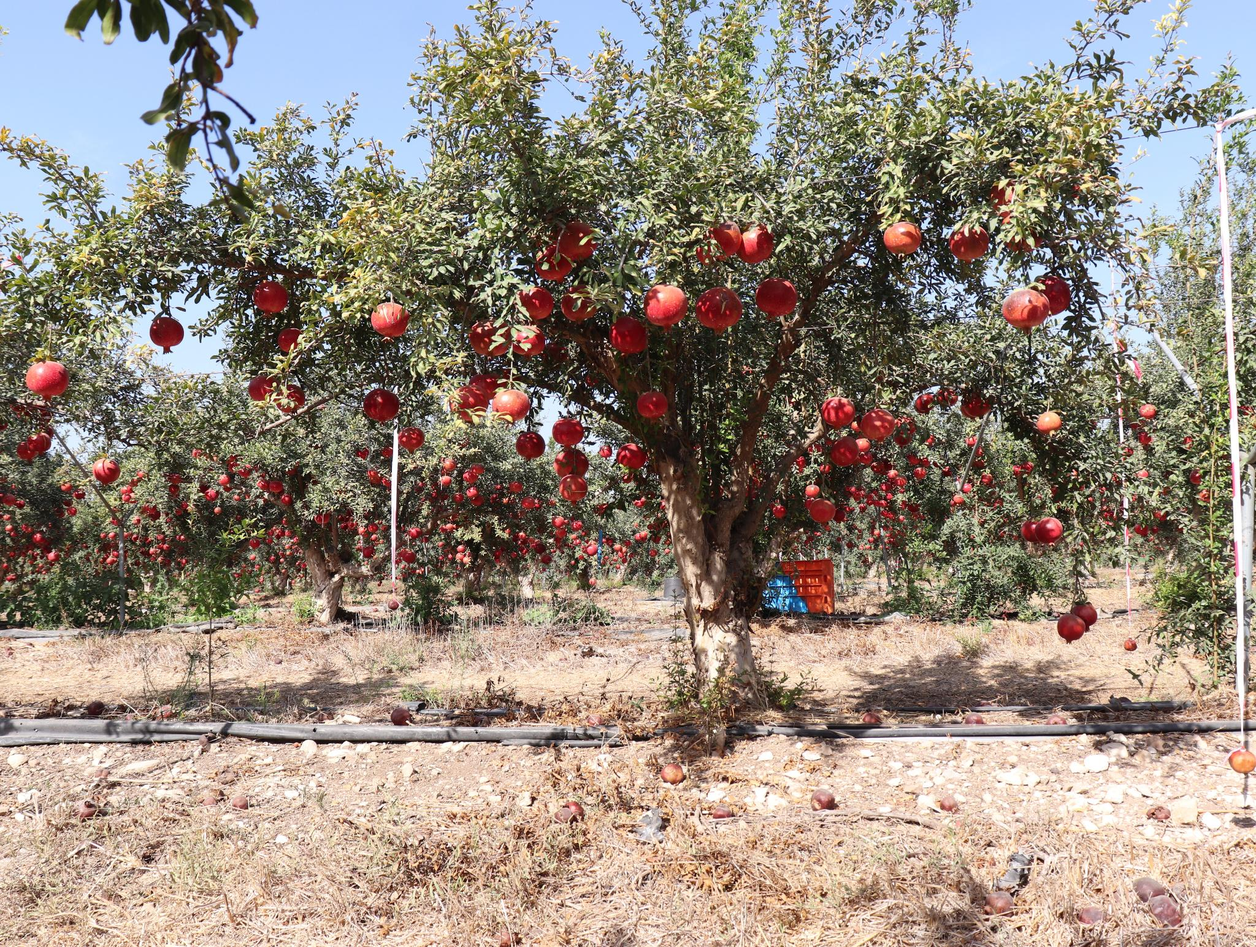pomegranates: (643, 284, 688, 334), (1004, 290, 1050, 336), (24, 361, 70, 404), (756, 277, 797, 323), (469, 319, 511, 362), (1000, 213, 1044, 253), (949, 225, 989, 268), (736, 220, 774, 265), (534, 244, 575, 285), (609, 316, 648, 359), (559, 221, 599, 262), (1032, 276, 1071, 318), (371, 303, 410, 343), (561, 286, 598, 327), (492, 389, 530, 428), (883, 222, 922, 260), (363, 388, 400, 426), (705, 218, 741, 257), (450, 385, 489, 420), (149, 317, 184, 355), (253, 282, 288, 319), (860, 409, 895, 445), (510, 325, 545, 360), (516, 286, 553, 319), (989, 180, 1021, 218), (821, 397, 854, 433), (552, 418, 584, 452), (554, 448, 588, 478), (638, 391, 668, 425), (274, 384, 304, 415), (516, 432, 546, 463), (468, 374, 497, 405), (830, 436, 859, 467), (1035, 517, 1063, 548), (93, 458, 121, 488), (616, 443, 646, 470), (1070, 603, 1097, 633), (810, 497, 836, 528), (249, 376, 280, 401), (398, 426, 425, 454), (964, 393, 992, 420), (1037, 412, 1061, 439), (27, 431, 51, 457), (279, 329, 303, 352), (696, 241, 718, 266), (1021, 519, 1040, 543), (17, 442, 37, 463), (937, 388, 958, 407), (895, 417, 916, 436), (960, 403, 978, 423), (916, 394, 935, 412), (893, 432, 912, 448), (856, 437, 870, 455), (793, 456, 805, 474), (806, 486, 820, 501), (772, 505, 787, 518), (914, 400, 927, 415), (599, 445, 611, 461), (808, 443, 822, 455), (860, 453, 872, 467), (819, 463, 831, 474), (923, 434, 934, 446), (851, 421, 861, 434), (965, 437, 977, 447)
